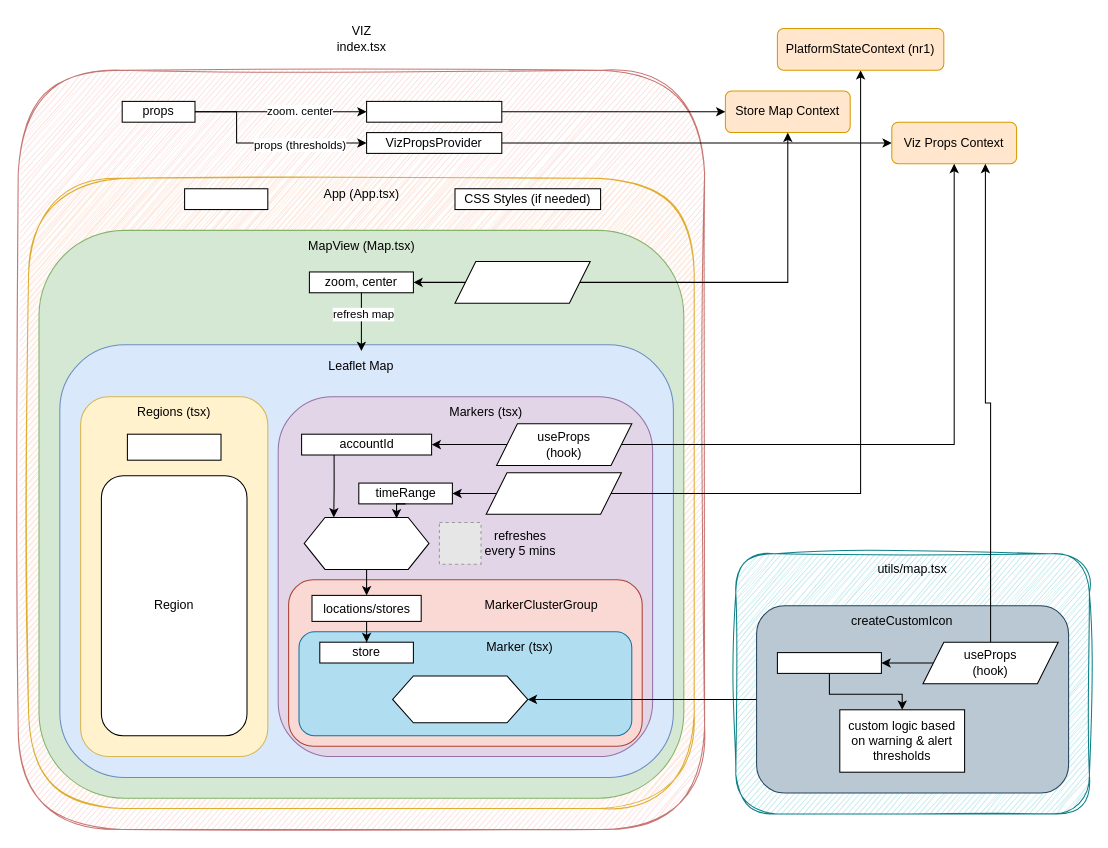
The diagram is 1108 pixels wide and 848 high, and some of its shapes have lost their labels. Grey dashed boxes stand in for pictures. The shapes that lost their labels are listed below. From the top down, each one's centre as x and y in pixels, then its label:
At (434,111): "StoreMapProvider".
At (226,199): "AutoSizer".
At (522,282): "useStoreMap (hook)".
At (173,446): "GeoJSON files".
At (553,493): "useContext (hook)".
At (366,542): "NerdGraphQuery (timeRange)".
At (828,662): "alert, warning".
At (460,699): "createCustomIcon (location/store)".
